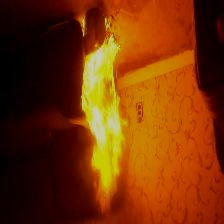fire: (85, 36, 128, 216)
